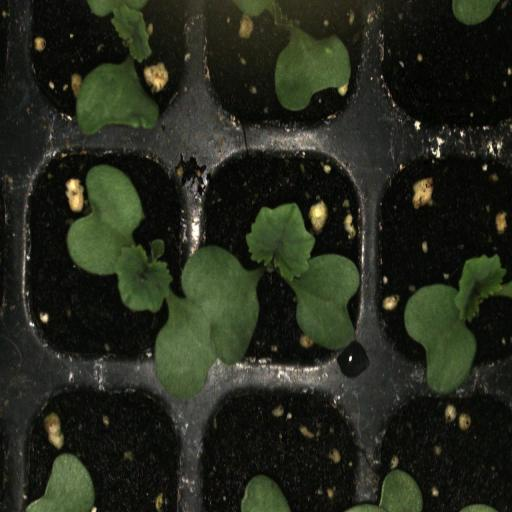Folha: (25, 453, 95, 512), (348, 469, 423, 512)
Germinacao: (14, 137, 194, 372), (190, 138, 368, 372), (369, 142, 512, 380), (18, 0, 194, 136)
